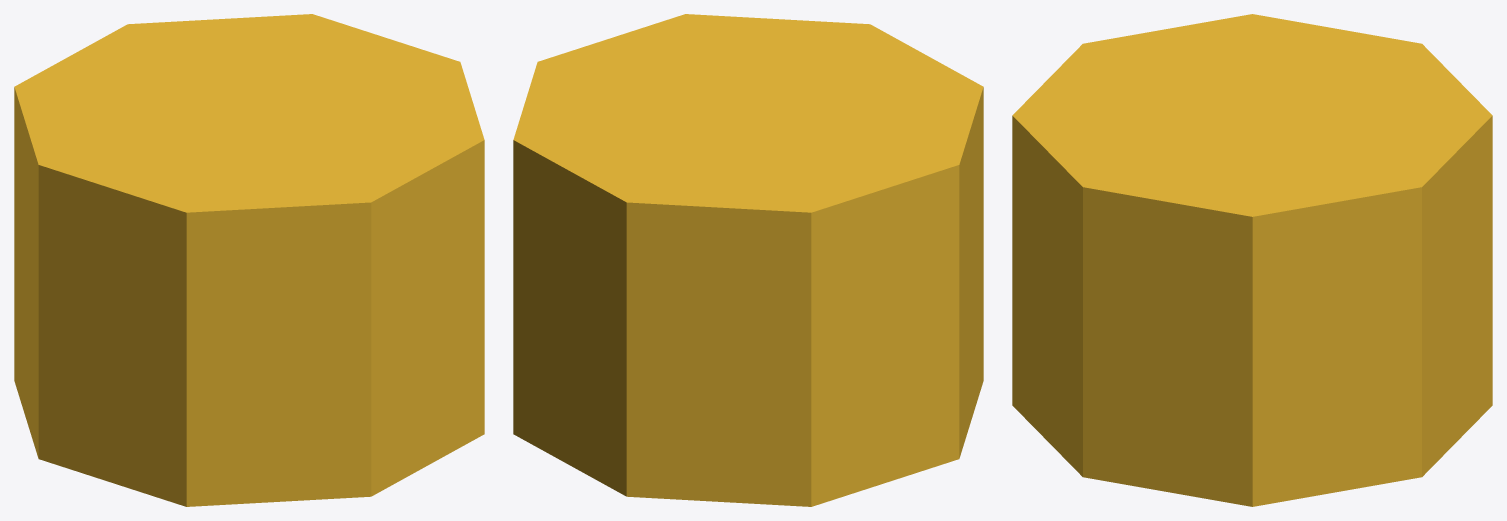
File: icon_beer.obj
3 views of the same model, side by side, from view 1: azimuth 30°, elevation 25°; view 2: azimuth 150°, elevation 25°; view 3: azimuth 270°, elevation 25° (orthographic).
Bounding box in the file's own units: 0.12 × 0.08 × 0.12.
